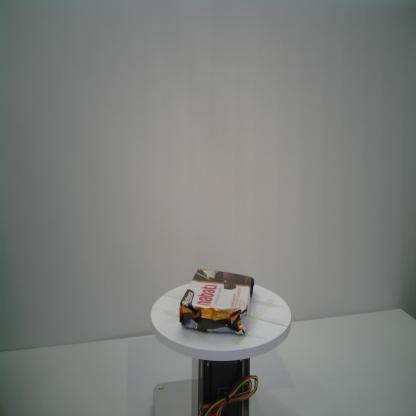Dessert: (179, 266, 255, 336)
